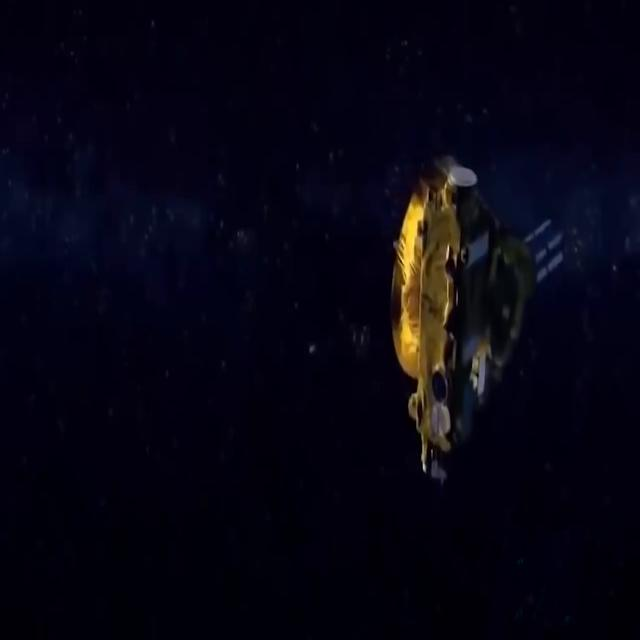sat: (356, 90, 584, 536)
